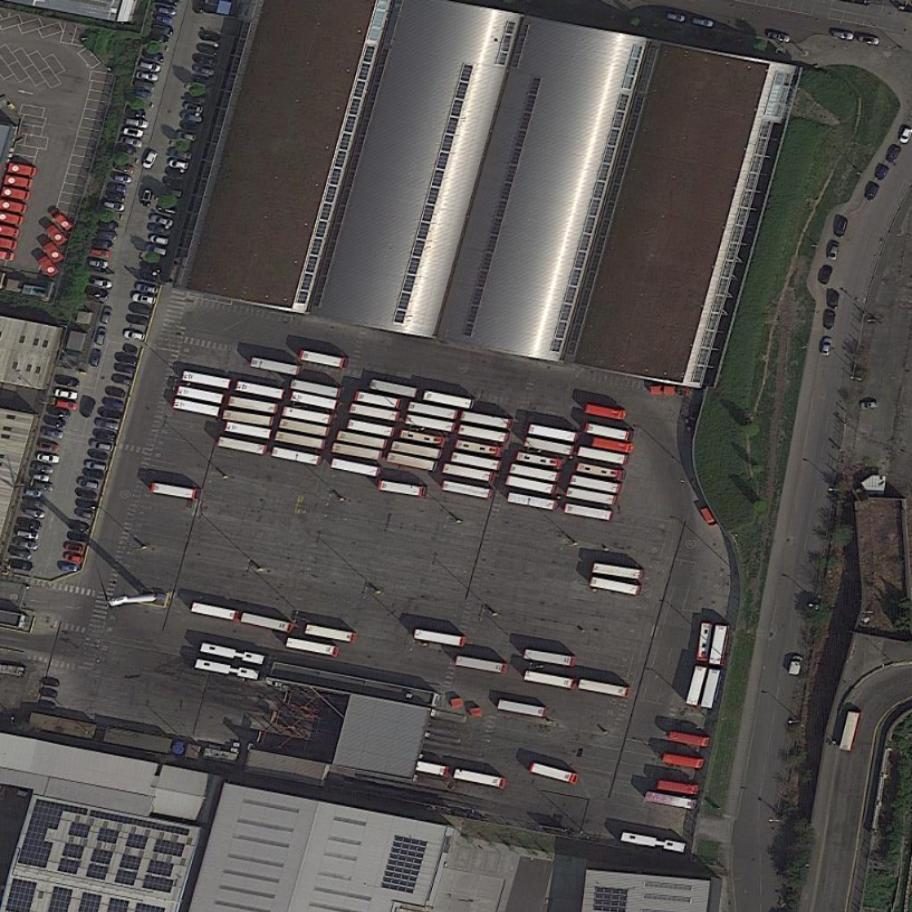large-vehicle: (194, 656, 261, 682), (620, 830, 687, 855), (200, 642, 267, 666), (528, 760, 579, 788), (522, 433, 575, 459), (386, 450, 440, 475), (335, 428, 391, 452), (289, 377, 342, 402), (223, 418, 276, 443), (285, 635, 342, 658), (413, 627, 468, 650), (453, 767, 507, 790), (644, 789, 700, 811), (443, 461, 496, 484), (460, 408, 515, 430), (390, 439, 445, 461), (241, 612, 296, 634), (423, 388, 475, 411), (218, 434, 270, 457), (451, 450, 505, 472), (455, 653, 509, 675), (349, 401, 400, 424), (330, 456, 381, 479), (577, 444, 627, 467), (578, 677, 630, 699), (568, 473, 620, 495), (275, 429, 327, 451), (233, 380, 287, 401), (708, 622, 732, 669), (522, 646, 573, 668), (528, 422, 579, 444), (455, 437, 506, 459), (443, 479, 494, 501), (589, 575, 642, 596), (522, 669, 575, 690), (279, 417, 332, 438), (305, 623, 358, 644), (271, 445, 324, 466), (369, 377, 419, 399), (458, 423, 510, 444), (405, 413, 457, 434), (685, 663, 709, 708), (507, 490, 556, 512), (176, 384, 225, 406), (838, 709, 863, 752), (509, 462, 560, 483), (281, 405, 332, 426), (408, 400, 459, 421), (698, 666, 722, 710), (347, 417, 395, 439), (566, 485, 616, 506), (377, 479, 429, 499), (291, 390, 338, 412), (498, 698, 547, 719), (564, 502, 613, 523), (182, 369, 231, 390), (251, 356, 300, 377), (191, 600, 240, 621), (505, 474, 556, 494), (399, 429, 450, 449), (332, 442, 383, 462), (173, 397, 221, 418), (354, 389, 402, 410), (584, 421, 634, 441), (223, 409, 275, 428), (299, 348, 346, 369), (516, 450, 565, 470), (576, 461, 624, 481), (150, 481, 198, 501), (592, 561, 642, 580), (662, 750, 705, 771), (228, 396, 278, 414), (695, 620, 716, 662), (585, 402, 627, 423), (668, 729, 710, 749), (591, 436, 634, 455), (656, 778, 701, 796), (416, 760, 451, 778)
small-vehicle: (33, 249, 60, 280), (42, 220, 69, 248), (40, 237, 66, 266), (49, 206, 75, 233), (7, 162, 37, 179), (145, 222, 173, 240), (7, 544, 33, 563), (124, 312, 151, 330), (1, 186, 31, 202), (863, 181, 883, 205), (141, 148, 160, 173), (41, 414, 68, 431), (787, 654, 805, 679), (79, 395, 97, 420), (99, 395, 127, 411), (192, 52, 218, 69), (195, 41, 221, 58), (3, 175, 34, 189), (54, 374, 81, 390), (93, 417, 121, 432), (90, 428, 118, 443), (97, 407, 125, 422), (131, 292, 159, 307), (66, 530, 92, 546), (74, 496, 100, 512), (7, 558, 36, 572), (46, 405, 73, 420), (113, 352, 140, 367), (87, 439, 115, 453), (127, 302, 155, 316), (817, 264, 834, 287), (109, 372, 135, 387), (766, 30, 793, 44), (885, 144, 903, 165), (52, 398, 79, 412), (119, 135, 144, 150), (89, 276, 114, 291), (833, 217, 849, 240), (39, 426, 65, 440), (21, 506, 47, 520), (18, 518, 44, 532), (134, 282, 160, 296), (68, 520, 92, 535), (76, 477, 100, 492), (31, 462, 56, 476), (89, 248, 114, 262), (115, 143, 140, 157), (190, 63, 215, 77), (143, 47, 166, 62), (63, 541, 86, 556), (96, 228, 119, 243), (104, 190, 127, 205), (198, 30, 221, 45), (874, 164, 891, 184), (829, 28, 855, 41), (150, 214, 174, 228), (857, 33, 881, 47), (827, 241, 843, 262), (92, 238, 116, 252), (112, 362, 136, 376), (114, 160, 136, 175), (105, 385, 127, 400), (179, 111, 204, 124), (135, 70, 160, 83), (36, 452, 61, 465), (86, 449, 111, 462), (12, 539, 39, 551), (826, 289, 841, 310), (151, 23, 175, 36), (61, 551, 85, 564), (32, 480, 56, 493), (84, 460, 108, 473), (169, 148, 193, 161), (123, 329, 147, 342), (147, 234, 171, 247), (73, 507, 95, 521), (38, 686, 60, 700), (132, 87, 154, 101), (691, 16, 716, 28), (125, 118, 150, 130), (159, 187, 184, 199), (133, 79, 158, 91), (148, 32, 171, 45), (37, 440, 60, 453), (35, 698, 58, 711), (162, 178, 185, 191), (144, 244, 167, 257), (95, 325, 109, 346), (23, 498, 47, 510), (74, 488, 98, 500), (81, 468, 105, 480), (16, 529, 40, 541), (155, 203, 179, 215), (124, 107, 148, 119), (54, 388, 78, 400), (140, 61, 162, 74), (823, 310, 836, 332), (97, 220, 119, 233), (140, 189, 155, 208), (897, 126, 912, 145), (819, 337, 833, 357), (41, 675, 61, 689), (89, 348, 103, 368), (100, 305, 114, 325), (182, 102, 205, 114), (179, 119, 200, 132), (175, 131, 199, 142), (23, 488, 45, 500), (108, 182, 128, 195), (147, 41, 170, 52), (104, 201, 126, 212), (665, 12, 688, 22), (170, 160, 190, 171), (124, 127, 144, 138), (122, 344, 140, 356), (114, 174, 133, 185), (31, 473, 51, 483), (60, 564, 80, 574), (155, 15, 174, 25), (860, 400, 879, 410), (88, 260, 109, 269), (157, 7, 179, 15)
